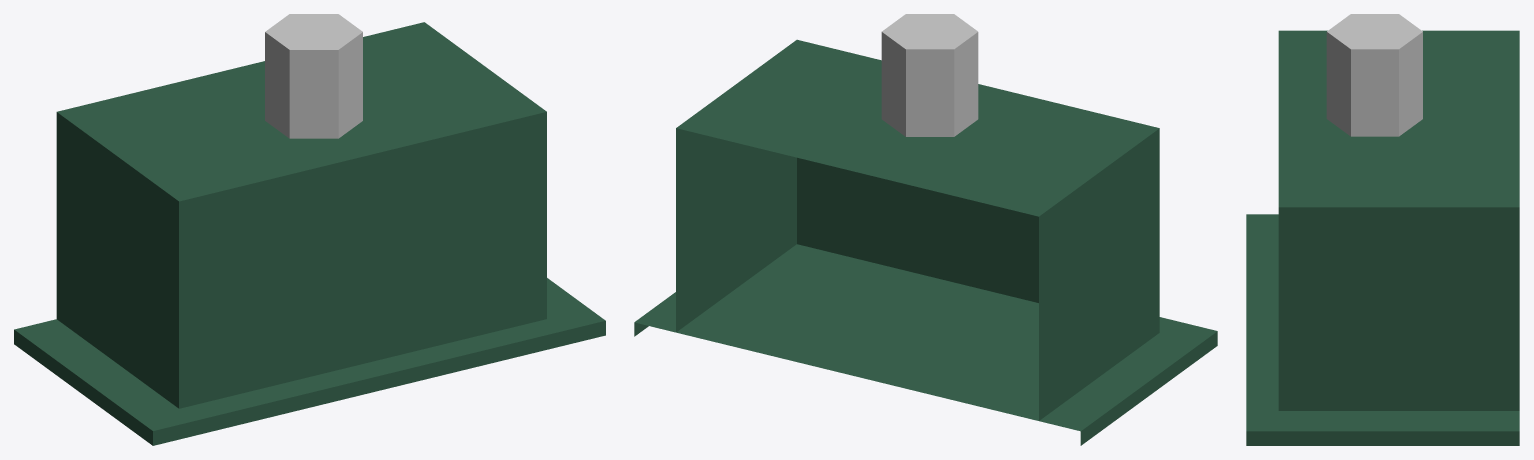
The model's file is cell_44.obj.
The picture shows the model from 3 angles, left to right: view 1: azimuth 30°, elevation 25°; view 2: azimuth 150°, elevation 25°; view 3: azimuth 270°, elevation 25°; orthographic projection.
Bounding box in the file's own units: 0.32 × 0.21 × 0.17.
